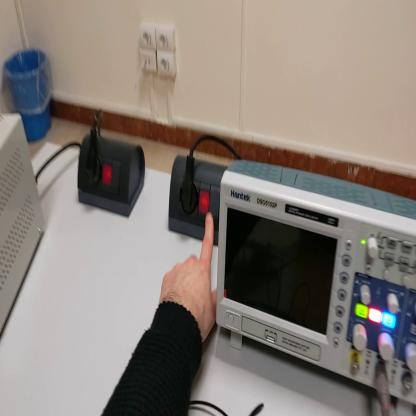hand: (158, 212, 220, 339)
oscilloscope: (218, 157, 416, 415)
power supply: (1, 113, 50, 342)
socket: (76, 135, 149, 217), (168, 153, 228, 246)
